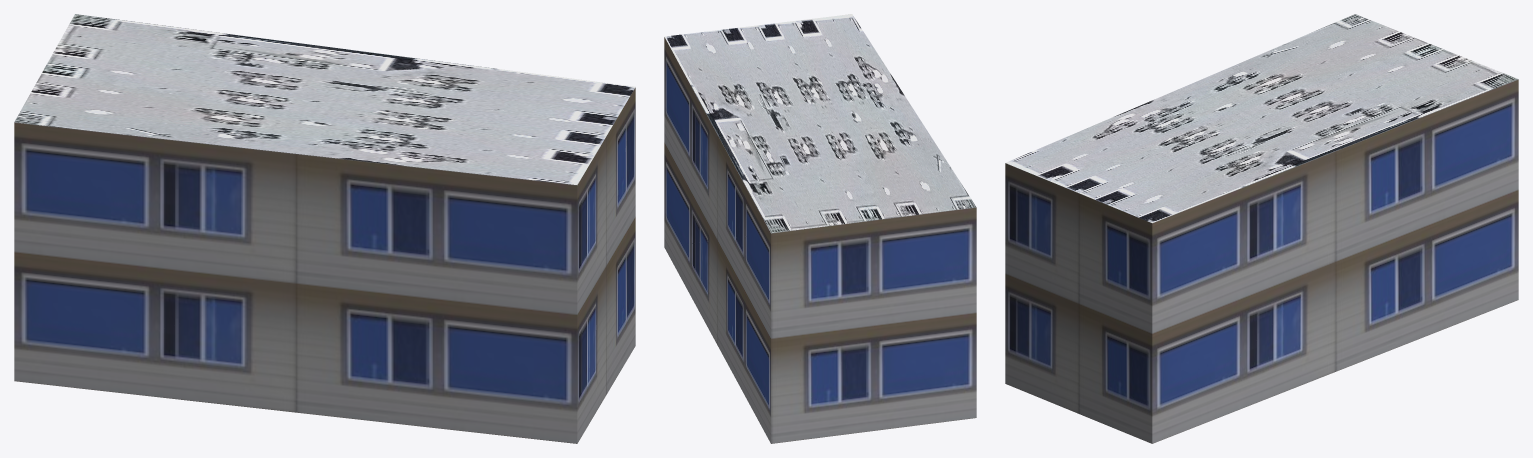
Rendered from ResTex__1764.fbx.
3 views of the same model, side by side, from view 1: azimuth 30°, elevation 25°; view 2: azimuth 150°, elevation 25°; view 3: azimuth 270°, elevation 25° (orthographic). The views are drawn at different scales.
Visible parts, largest first — view 1: CityEngineMaterial_23_m, CityEngineMaterial_m; view 2: CityEngineMaterial_23_m, CityEngineMaterial_m; view 3: CityEngineMaterial_23_m, CityEngineMaterial_m.
Part boxes in pixels (box(x1,y1,x2,y2)): CityEngineMaterial_23_m: box(14, 87, 635, 443); CityEngineMaterial_m: box(14, 14, 635, 184); CityEngineMaterial_23_m: box(664, 37, 976, 443); CityEngineMaterial_m: box(664, 14, 976, 233); CityEngineMaterial_23_m: box(1005, 79, 1518, 443); CityEngineMaterial_m: box(1006, 14, 1518, 222).
Bounding box in the file's own units: 12.2 × 6 × 12.65.
Materials: 2 (2 with a texture image).
